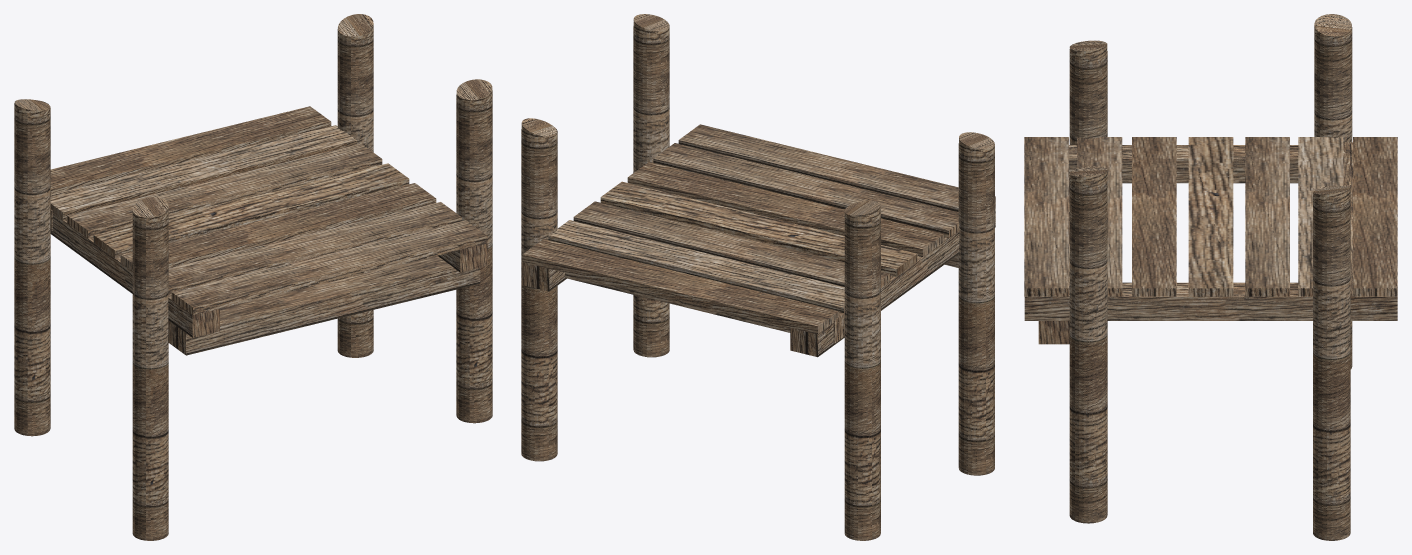
Rendered from  Plataforma  madera.fbx.
3 renders of one model, left to right at view 1: azimuth 30°, elevation 25°; view 2: azimuth 150°, elevation 25°; view 3: azimuth 270°, elevation 25°, orthographic. The views are drawn at different scales.
Visible parts, largest first — view 1: Plataforma tablas, Columna 2, Viga.001, Viga; view 2: Plataforma tablas, Columna 2, Viga.001, Viga; view 3: Plataforma tablas, Columna 2, Viga, Viga.001.
Boxes of the visible parts, x1,y1,x2,y2 form: Plataforma tablas: [50, 106, 487, 355]; Columna 2: [14, 14, 373, 436]; Viga.001: [132, 197, 168, 540]; Viga: [456, 79, 492, 423]; Plataforma tablas: [521, 124, 995, 357]; Columna 2: [521, 118, 880, 540]; Viga.001: [958, 132, 994, 475]; Viga: [633, 14, 669, 357]; Plataforma tablas: [1024, 137, 1397, 344]; Columna 2: [1313, 14, 1352, 540]; Viga: [1069, 166, 1107, 523]; Viga.001: [1069, 40, 1107, 145].
Bounding box in the file's own units: 486 × 478 × 417.
2 materials, 2 textured.
